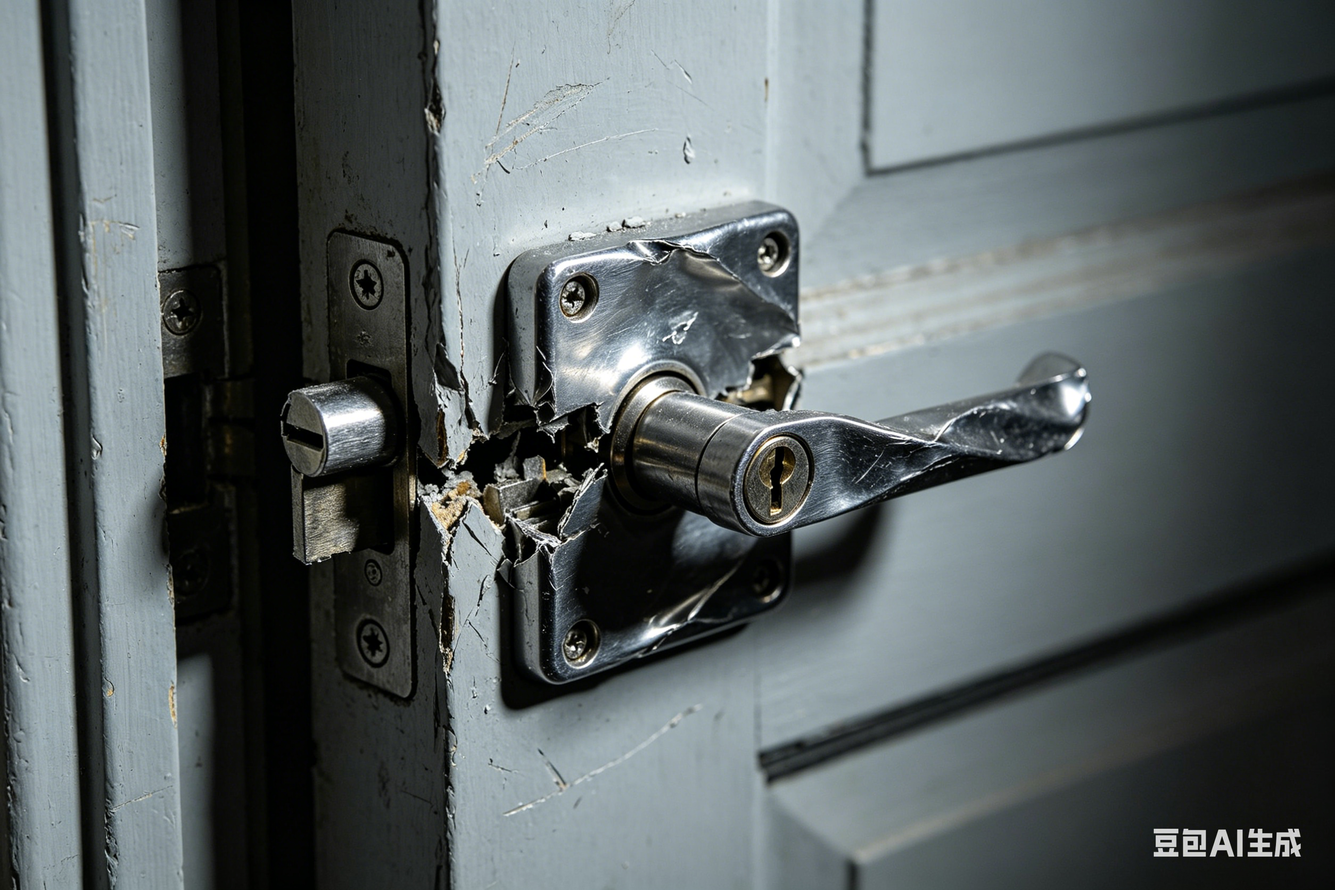BadLock: (407, 366, 610, 560), (698, 382, 1095, 480)
